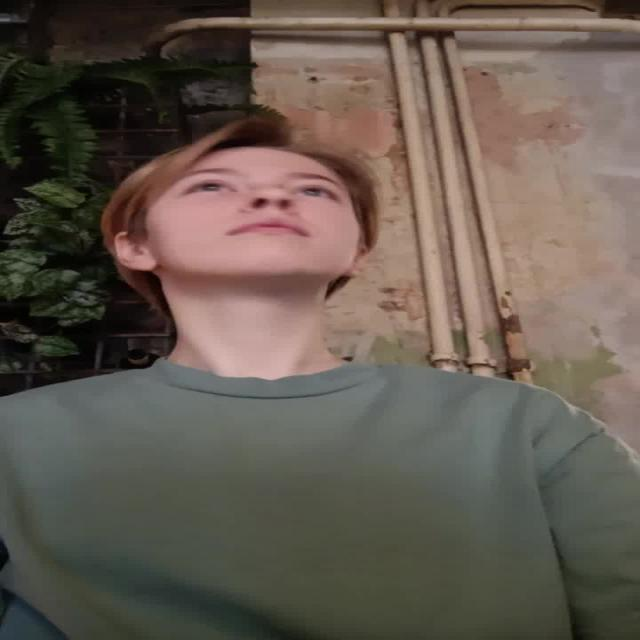earlobe: (113, 231, 155, 271), (342, 248, 368, 278)
